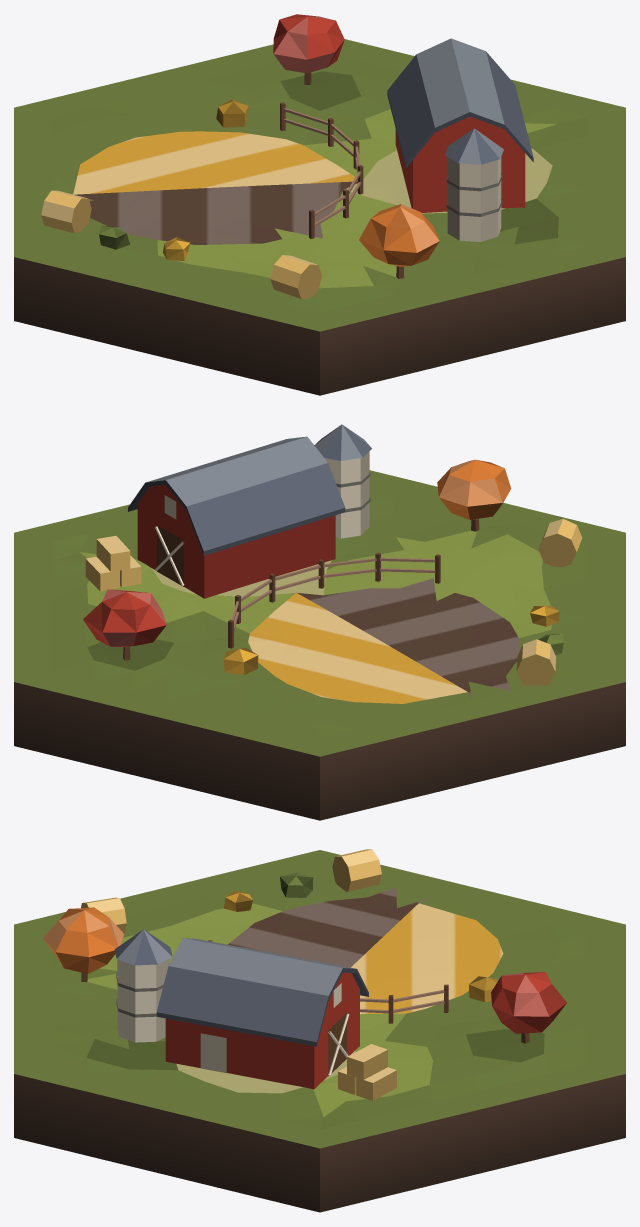
File: SM_Tile_Farm_A.fbx
3 renders of one model, top to bottom at view 1: azimuth 30°, elevation 25°; view 2: azimuth 150°, elevation 25°; view 3: azimuth 270°, elevation 25°, orthographic.
Visible parts, largest first — view 1: SM_Tile_Farm_A; view 2: SM_Tile_Farm_A; view 3: SM_Tile_Farm_A.
Part boxes in pixels (bbox=[...]): SM_Tile_Farm_A: bbox=[14, 14, 625, 395]; SM_Tile_Farm_A: bbox=[14, 424, 625, 820]; SM_Tile_Farm_A: bbox=[14, 849, 625, 1212].
Bounding box in the file's own units: 20 × 5.2 × 17.32.
